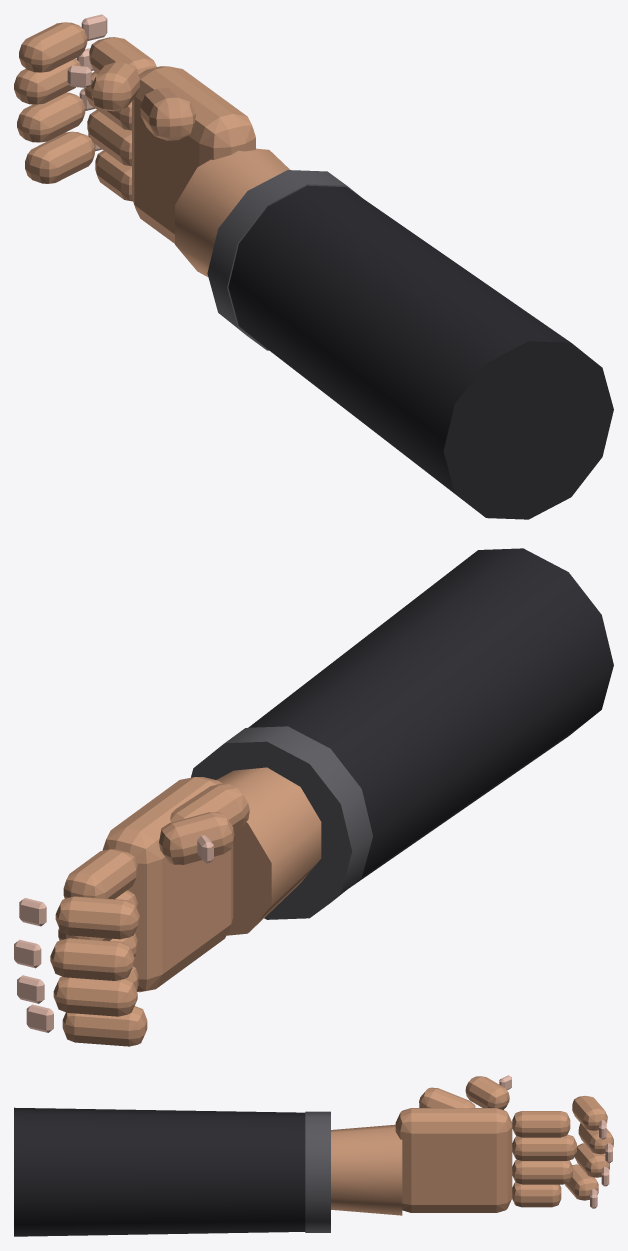
The model's file is maos.obj.
3 renders of one model, top to bottom at view 1: azimuth 30°, elevation 25°; view 2: azimuth 150°, elevation 25°; view 3: azimuth 270°, elevation 25°, orthographic. The views are drawn at different scales.
Parts seen in each view (by area): view 1: maos; view 2: maos; view 3: maos.
Boxes of the visible parts, x1,y1,x2,y2 form: maos: [14, 14, 613, 519]; maos: [14, 548, 613, 1046]; maos: [14, 1075, 613, 1236].
Bounding box in the file's own units: 0.1 × 0.1134 × 0.4636.
